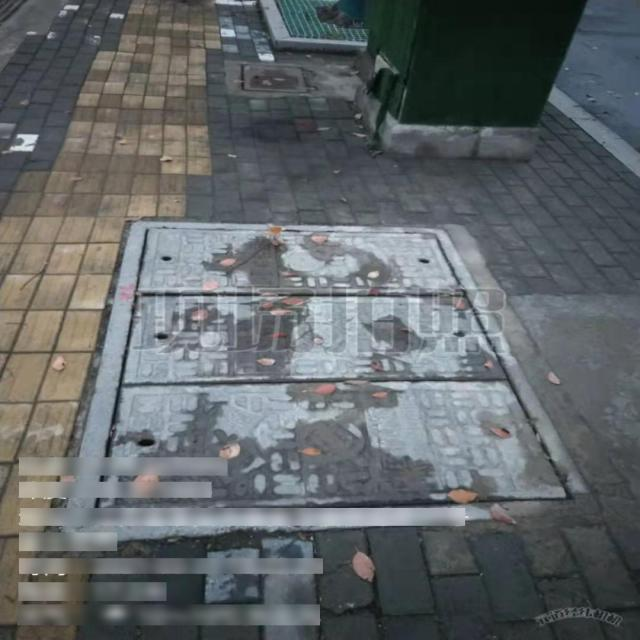Good: (60, 218, 586, 536)
